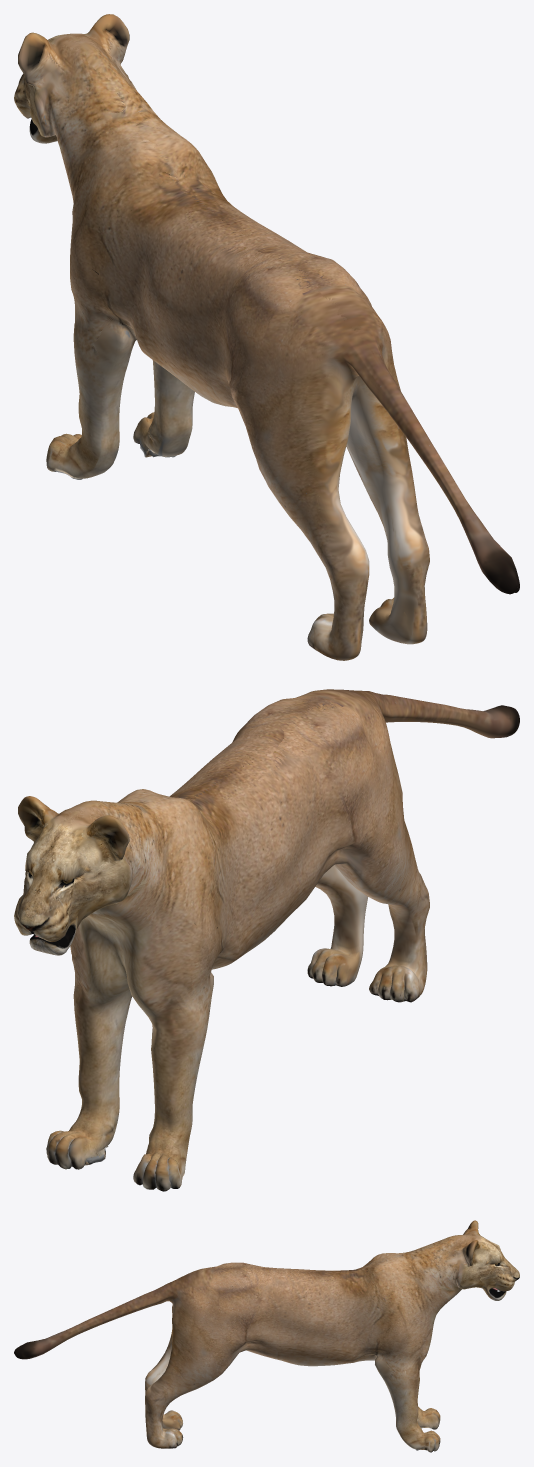
The model's file is lioness.gltf.
3 renders of one model, top to bottom at view 1: azimuth 30°, elevation 25°; view 2: azimuth 150°, elevation 25°; view 3: azimuth 270°, elevation 25°, orthographic. The views are drawn at different scales.
Visible parts, largest first — view 1: lion model_2; view 2: lion model_2; view 3: lion model_2.
Part boxes in pixels (left/top/right/bottom): lion model_2: left=14, top=14, right=519, bottom=660; lion model_2: left=14, top=689, right=519, bottom=1191; lion model_2: left=14, top=1220, right=519, bottom=1452.
Size of the model in its own units: 1 by 2.75 by 6.07.
Materials: 3 (2 with a texture image).
